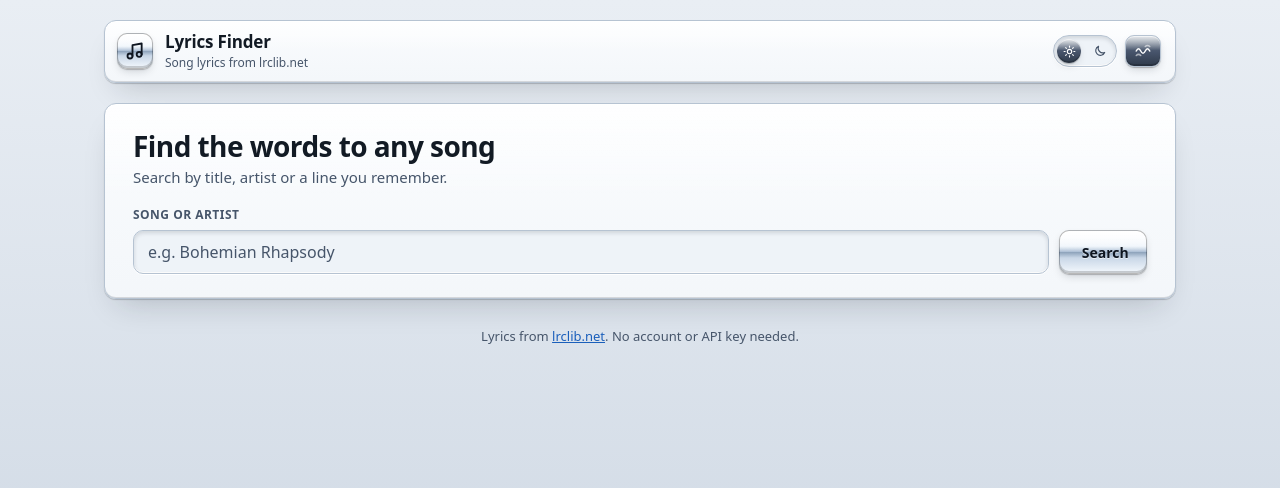
Test case: search › asks for text when submitted empty
The width and height of the screenshot is (1280, 488).
What coordinates should you click on to do the following:
click the button "Search"
I would click on:
 (1103, 252)
Its box is [1059, 230, 1147, 274].
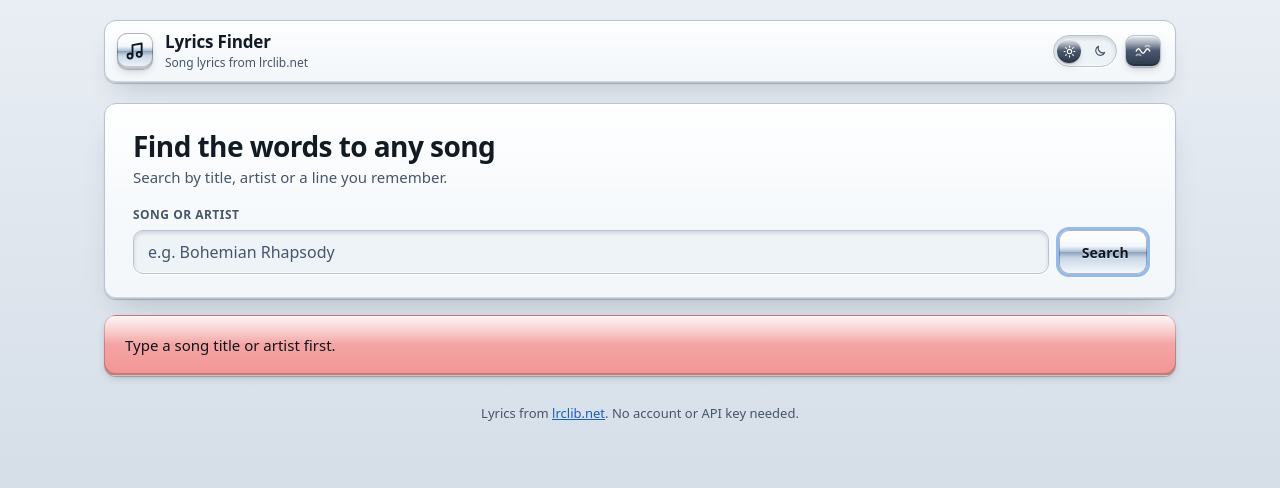
Check: the message shows "Type a song title", box [125, 335, 336, 355]
